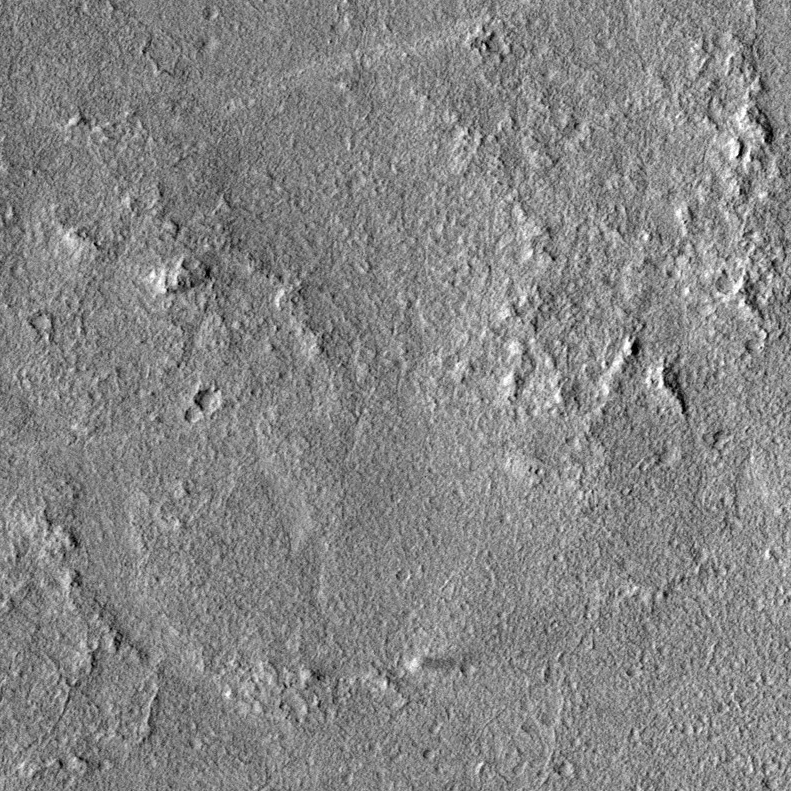dust_devil: (406, 654, 458, 678)
